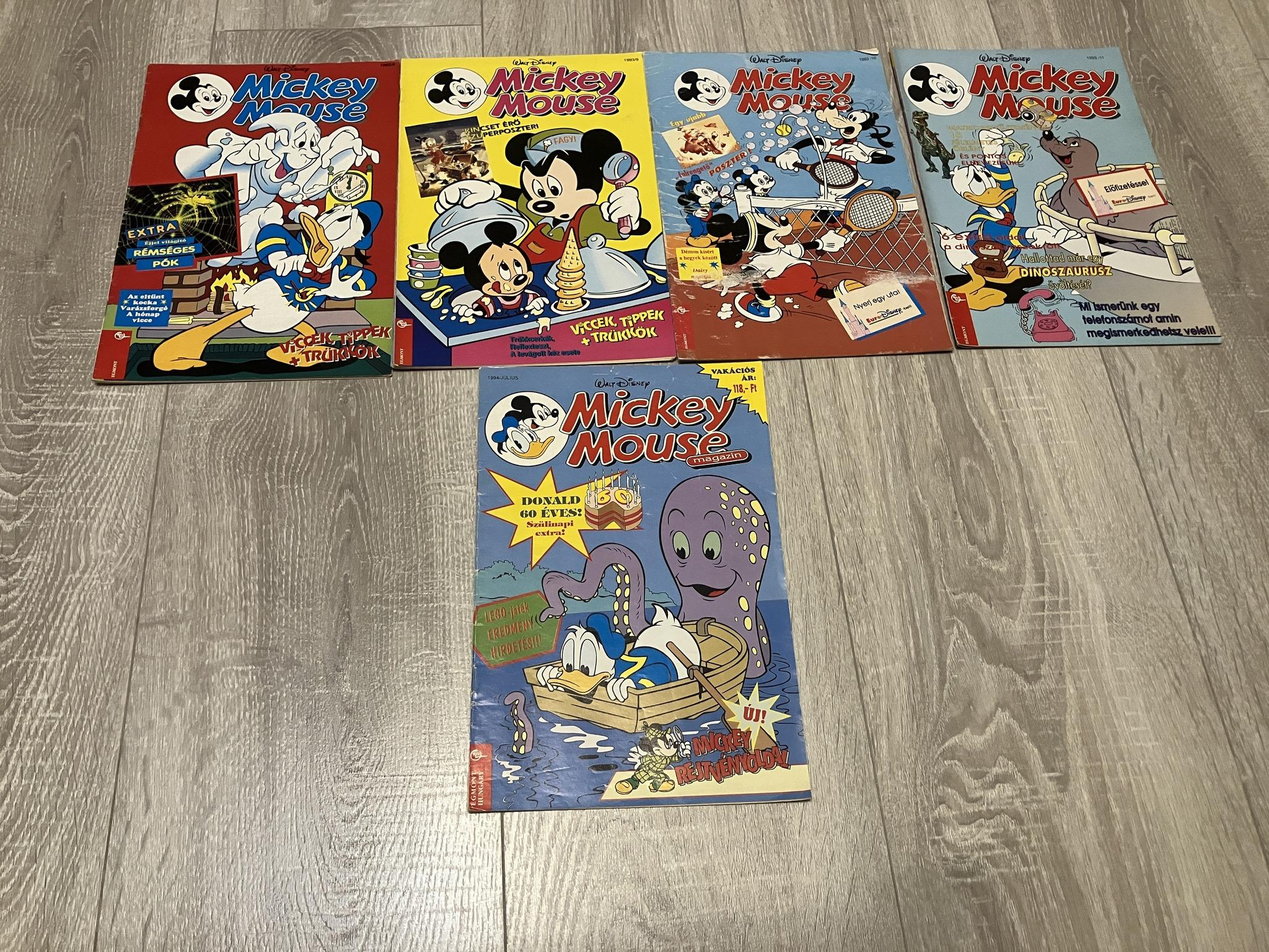comic: (459, 361, 808, 811), (889, 0, 1220, 399), (645, 25, 951, 377), (93, 54, 399, 389), (384, 52, 674, 371)
